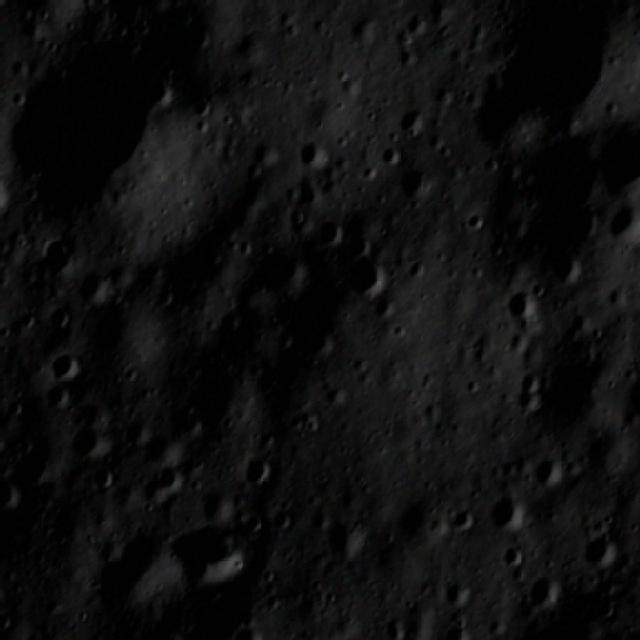crater: (466, 2, 619, 138), (25, 43, 146, 208), (168, 526, 246, 585), (543, 125, 594, 207), (598, 120, 640, 194), (12, 441, 54, 488), (342, 250, 388, 292), (490, 492, 532, 532), (525, 569, 563, 611), (46, 340, 82, 382), (560, 205, 597, 243), (39, 233, 76, 270), (582, 530, 618, 568), (608, 198, 637, 245), (303, 321, 340, 356), (513, 370, 542, 412), (328, 521, 358, 561), (315, 214, 348, 248), (80, 262, 108, 300), (393, 106, 430, 134), (401, 167, 433, 199), (69, 427, 105, 455), (148, 74, 178, 106), (296, 140, 332, 166), (439, 580, 475, 606), (238, 459, 274, 484), (554, 249, 581, 282), (504, 285, 528, 320), (498, 540, 530, 566), (183, 26, 220, 48), (44, 384, 74, 411), (89, 461, 111, 497), (372, 291, 399, 320), (50, 301, 73, 334), (459, 208, 487, 234), (536, 452, 559, 483), (19, 303, 43, 331), (152, 465, 180, 489), (348, 228, 370, 258), (377, 145, 408, 166), (240, 509, 266, 534), (272, 504, 296, 530), (286, 203, 308, 229), (294, 182, 321, 203), (194, 89, 215, 114), (408, 256, 429, 281), (217, 305, 238, 329), (306, 507, 328, 528), (152, 285, 174, 306), (193, 114, 212, 135)
